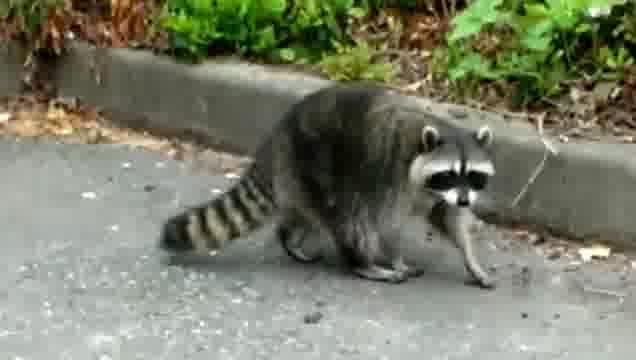raccoon: (160, 81, 503, 294)
